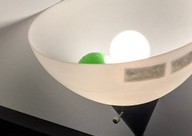ball: (76, 51, 113, 67)
